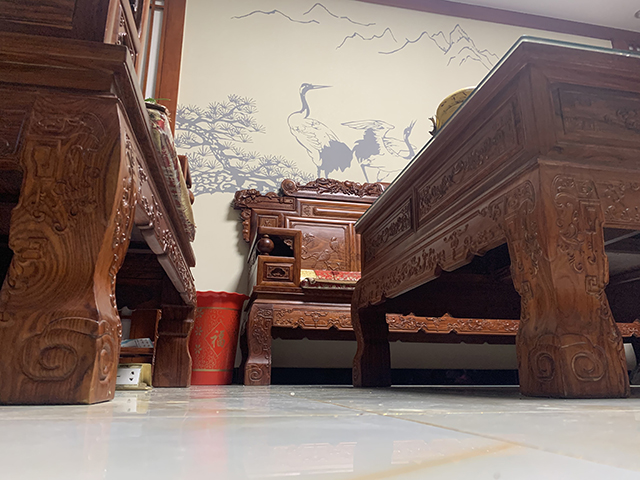sofa: (1, 1, 196, 406), (229, 176, 375, 385)
table: (349, 34, 640, 401)
trashcan: (188, 290, 249, 387)
